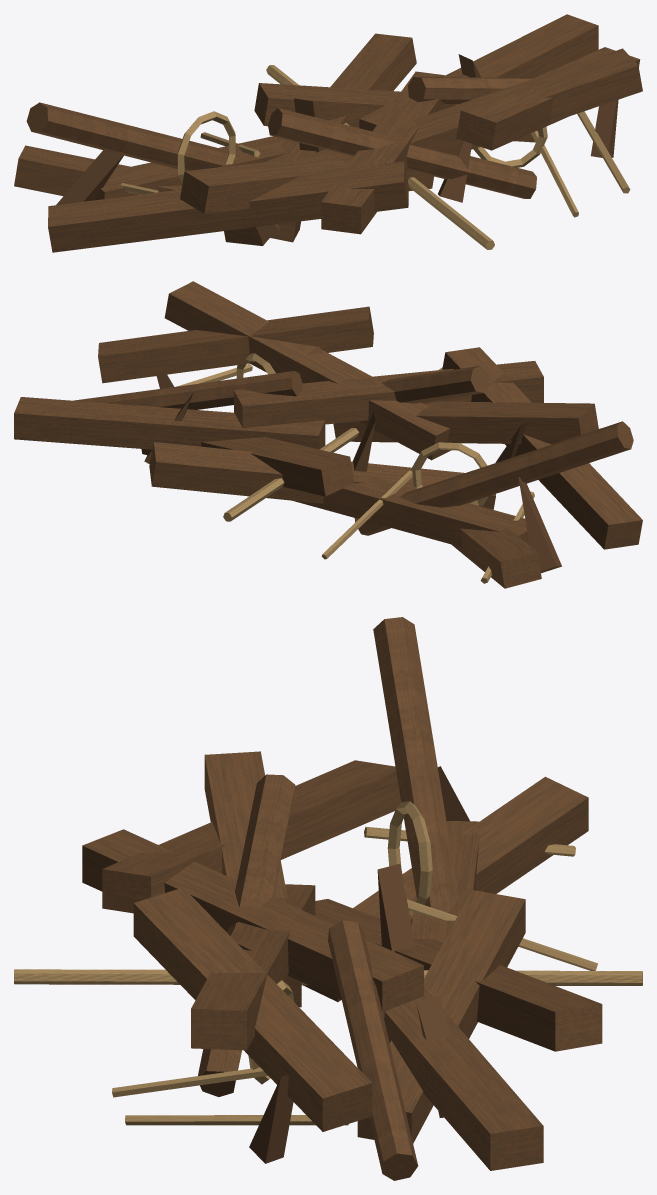
File: en-023_storm_damage_debris_set__broken_shelter_parts.obj
3 renders of one model, top to bottom at view 1: azimuth 30°, elevation 25°; view 2: azimuth 150°, elevation 25°; view 3: azimuth 270°, elevation 25°, orthographic. The views are drawn at different scales.
Visible parts, largest first — view 1: en-023_storm_damage_debris_set__broken_shelter_parts; view 2: en-023_storm_damage_debris_set__broken_shelter_parts; view 3: en-023_storm_damage_debris_set__broken_shelter_parts.
Boxes of the visible parts, <box> form: en-023_storm_damage_debris_set__broken_shelter_parts: <box>14,14,642,252</box>; en-023_storm_damage_debris_set__broken_shelter_parts: <box>14,281,642,588</box>; en-023_storm_damage_debris_set__broken_shelter_parts: <box>14,617,642,1180</box>.
Bounding box in the file's own units: 1.51 × 0.4003 × 1.
2 materials, 2 textured.
